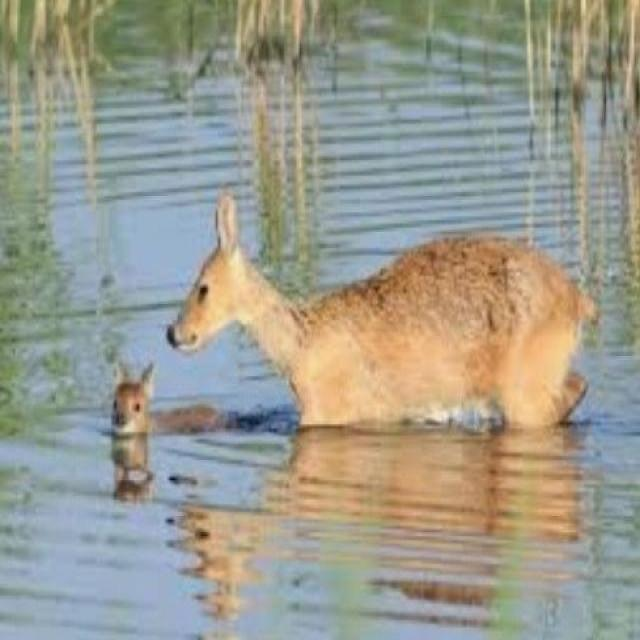deer: (156, 196, 603, 432), (92, 342, 238, 481)
